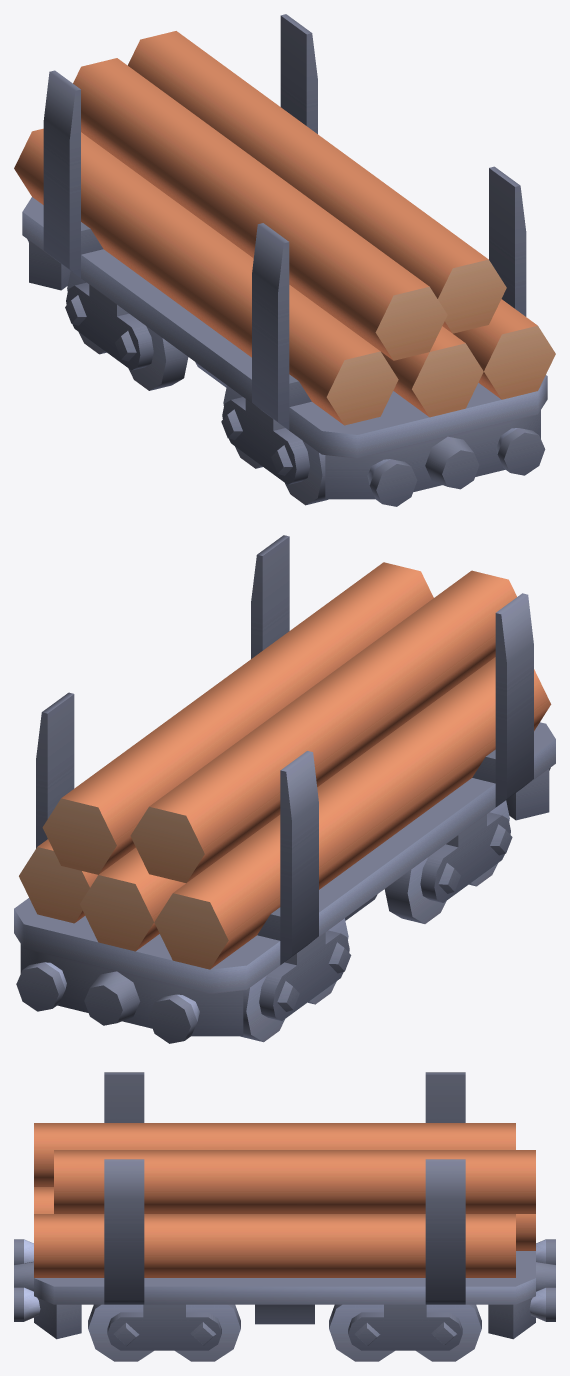
Rendered from timmervagn.glb.
The picture shows the model from 3 angles, top to bottom: view 1: azimuth 30°, elevation 25°; view 2: azimuth 150°, elevation 25°; view 3: azimuth 270°, elevation 25°; orthographic projection. The views are drawn at different scales.
Parts seen in each view (by area): view 1: cargo, train-carriage-lumber, wheels-back, wheels-front; view 2: cargo, train-carriage-lumber, wheels-front, wheels-back; view 3: cargo, train-carriage-lumber, wheels-front, wheels-back.
Boxes of the visible parts, x1,y1,x2,y2 form: cargo: (14, 31, 555, 425); train-carriage-lumber: (22, 14, 547, 506); wheels-back: (65, 271, 188, 390); wheels-front: (221, 385, 328, 505); cargo: (19, 562, 551, 969); train-carriage-lumber: (14, 535, 555, 1043); wheels-front: (384, 800, 512, 923); wheels-back: (240, 918, 351, 1042); cargo: (34, 1123, 535, 1277); train-carriage-lumber: (14, 1072, 555, 1339); wheels-front: (88, 1304, 240, 1361); wheels-back: (329, 1304, 481, 1361).
Size of the model in its own units: 1.1 by 1.16 by 2.7.
Materials: 1 (1 with a texture image).
